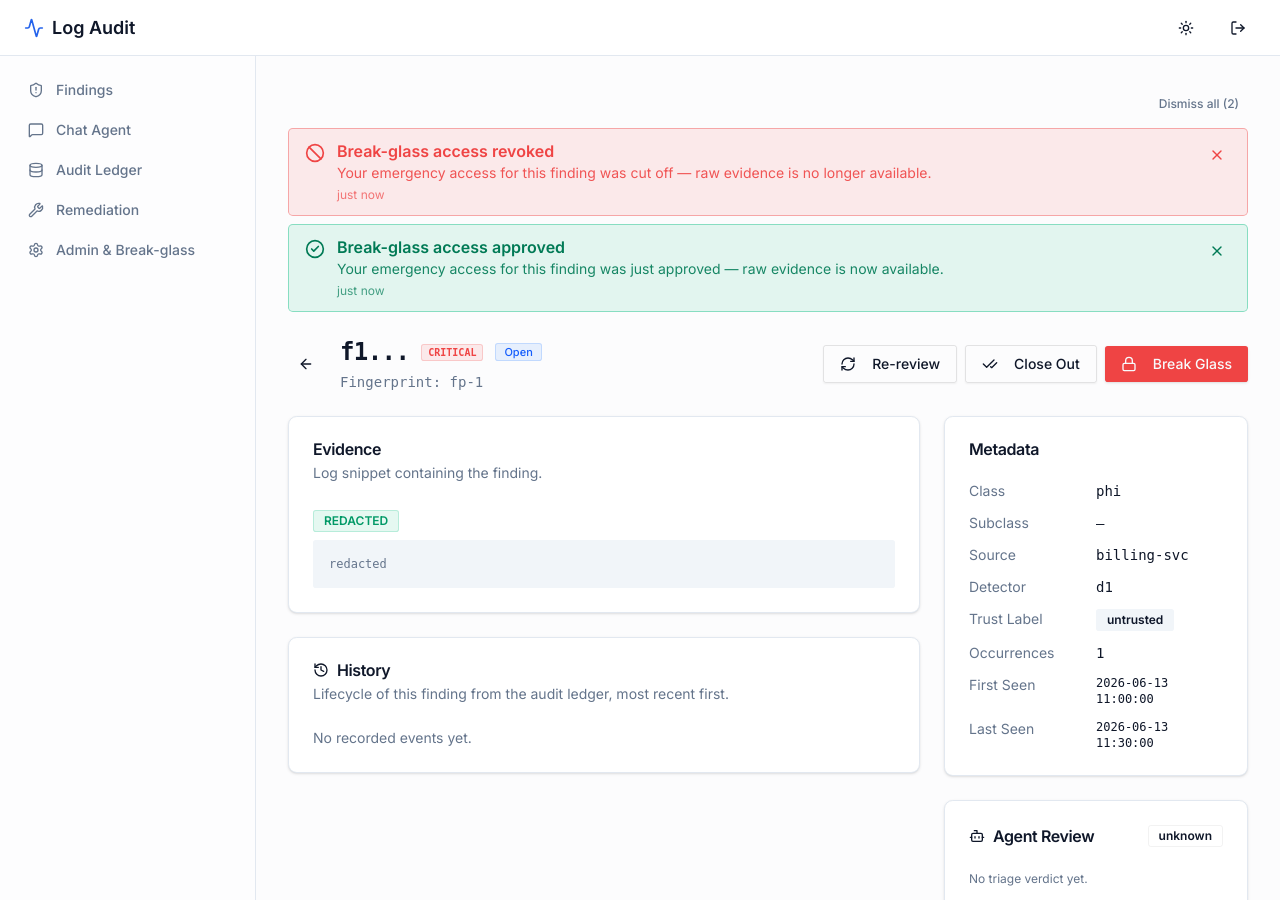
Test case: FindingDetail persistent access-change banner › clears every stacked entry with Dismiss all
Check: the heading "Break-glass access approved" is shown, box [337,237,565,257]
Check: the heading "Break-glass access revoked" is shown, box [337,141,554,161]
Click the button "Dismiss all (2)" at {"x": 1199, "y": 104}, box [1150,88,1248,120]
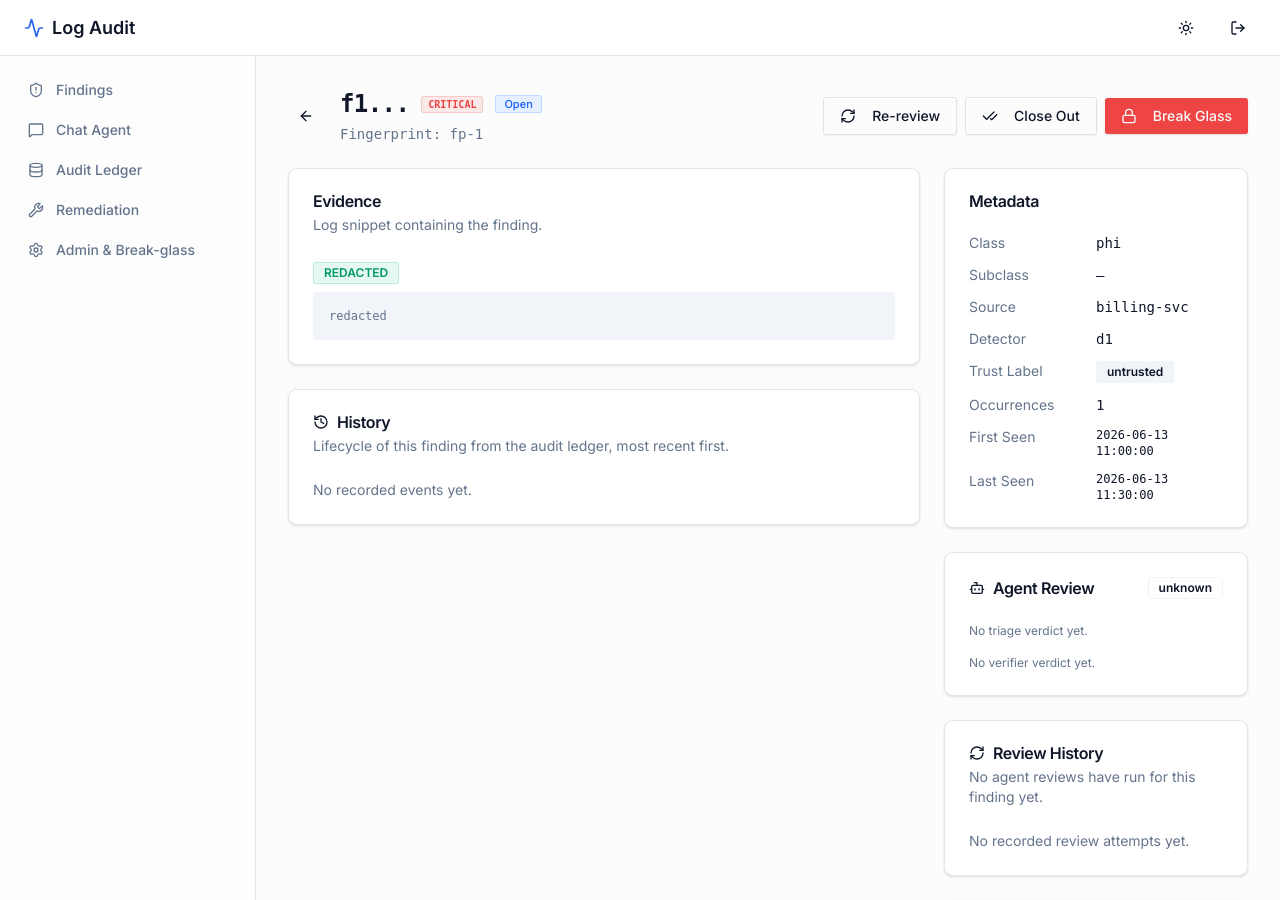
Check: the message with test id "break-glass-access-banner" is gone
